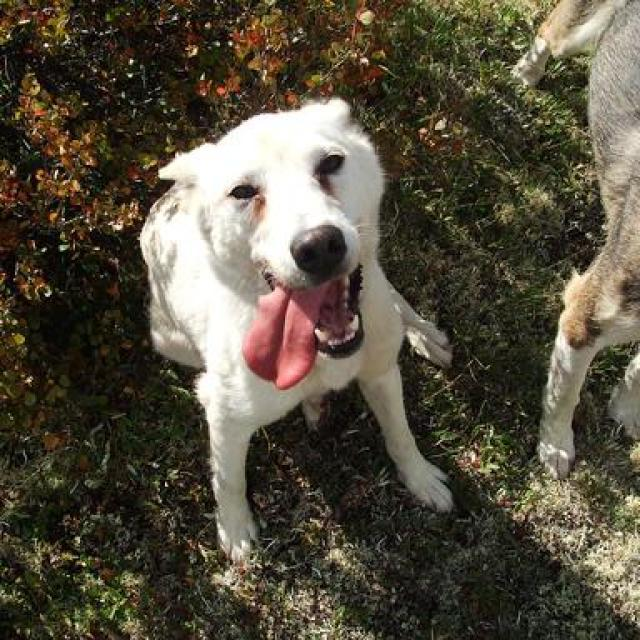adult_dog: (135, 96, 456, 572), (512, 1, 640, 484)
